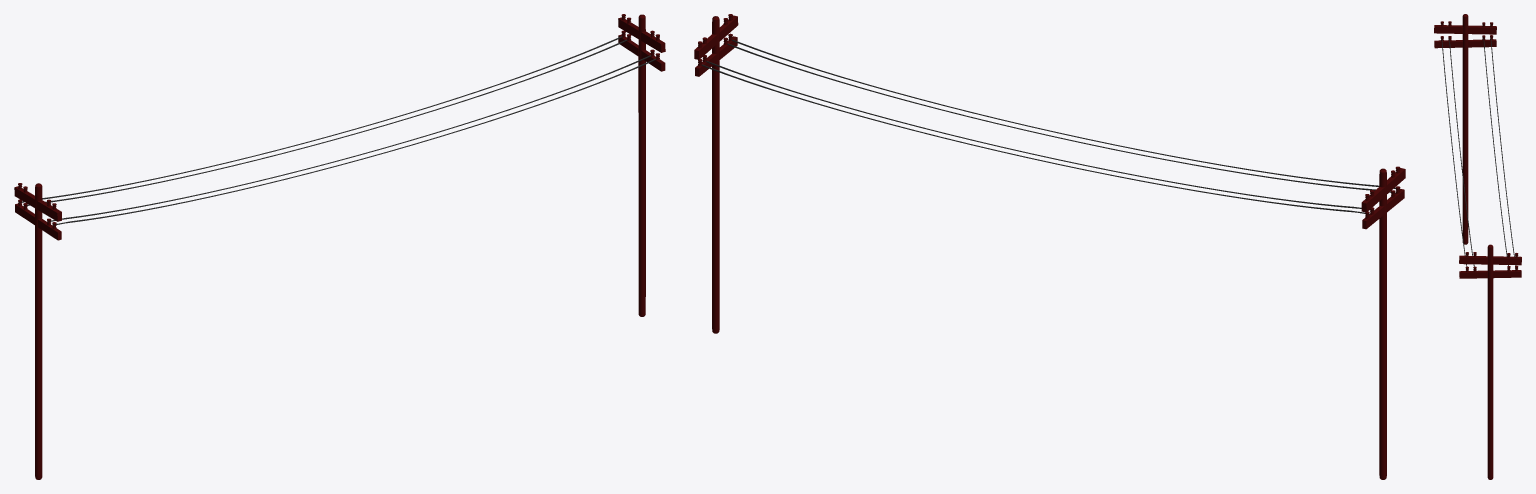
File: Indian wire pole.fbx
3 views of the same model, side by side, from view 1: azimuth 30°, elevation 25°; view 2: azimuth 150°, elevation 25°; view 3: azimuth 270°, elevation 25° (orthographic). The views are drawn at different scales.
Parts seen in each view (by area): view 1: polySurface51, polySurface28, polySurface39; view 2: polySurface51, polySurface39, polySurface28; view 3: polySurface28, polySurface39, polySurface51.
Part boxes in pixels (x1,y1,x2,y2): polySurface51: [19, 36, 656, 225]; polySurface28: [618, 14, 665, 316]; polySurface39: [14, 183, 61, 479]; polySurface51: [701, 39, 1399, 214]; polySurface39: [1361, 166, 1405, 479]; polySurface28: [694, 14, 738, 333]; polySurface28: [1459, 244, 1521, 479]; polySurface39: [1434, 14, 1496, 244]; polySurface51: [1441, 37, 1516, 266].
Bounding box in the file's own units: 12.53 × 5.73 × 1.96.
